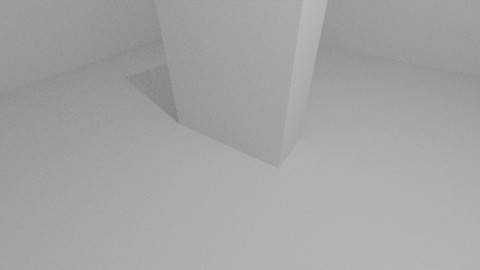cheminee: (155, 1, 328, 169)
